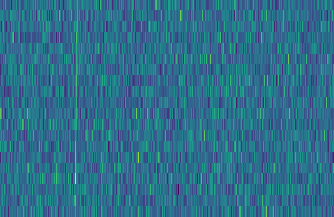signal: (67, 0, 78, 217)
